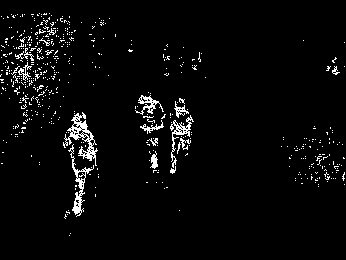person: (64, 111, 98, 219), (135, 92, 166, 175), (170, 98, 193, 177)
